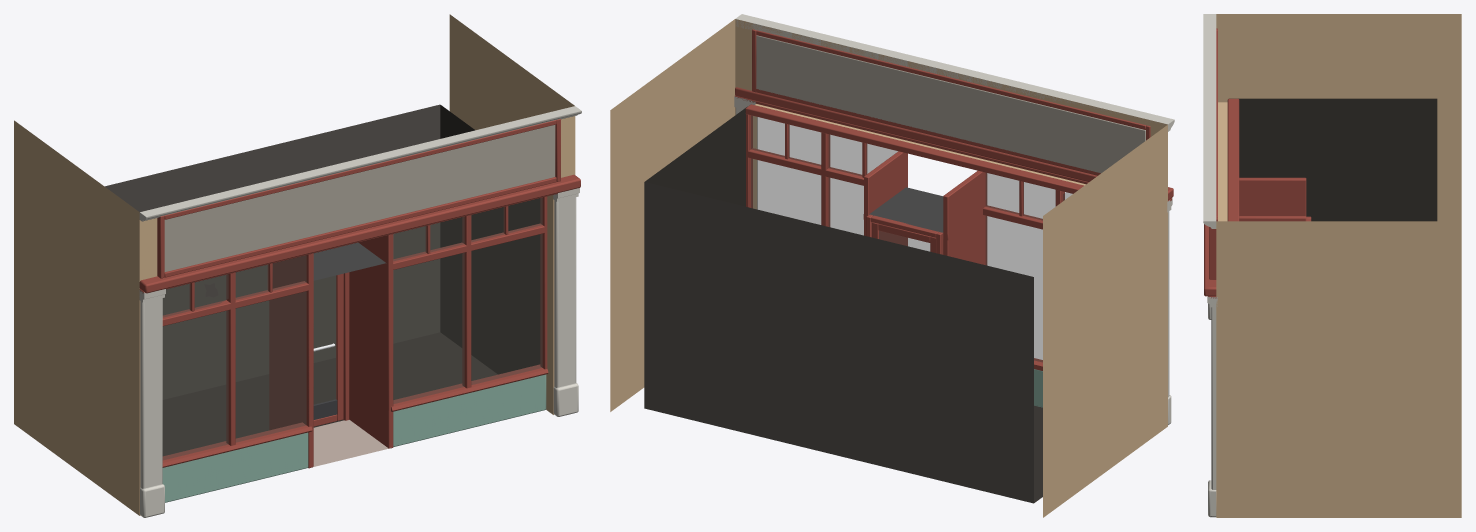
Rendered from shop_dark_6a.glb.
The picture shows the model from 3 angles, left to right: view 1: azimuth 30°, elevation 25°; view 2: azimuth 150°, elevation 25°; view 3: azimuth 270°, elevation 25°; orthographic projection. The views are drawn at different scales.
Parts seen in each view (by area): view 1: shop_dark_6a; view 2: shop_dark_6a; view 3: shop_dark_6a.
Boxes of the visible parts, box(x1,y1,x2,y2) form: shop_dark_6a: box(14, 14, 581, 517); shop_dark_6a: box(610, 14, 1174, 517); shop_dark_6a: box(1203, 14, 1461, 517).
Bounding box in the file's own units: 6 × 4 × 3.16.
